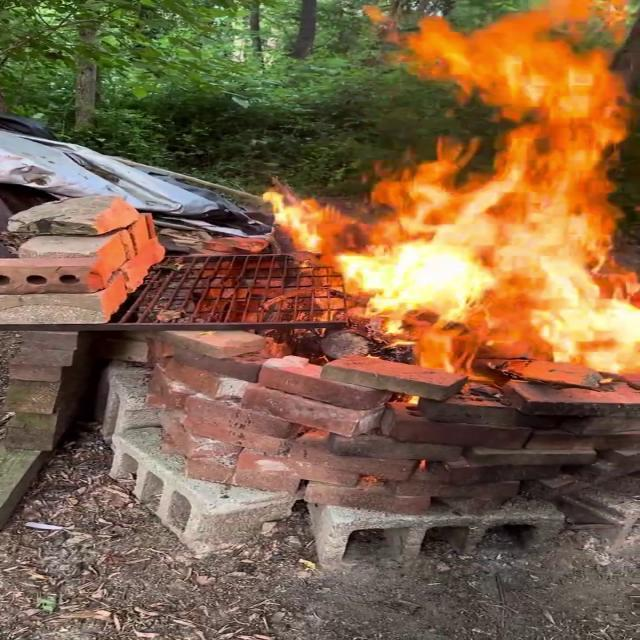Fire: (270, 0, 640, 390)
